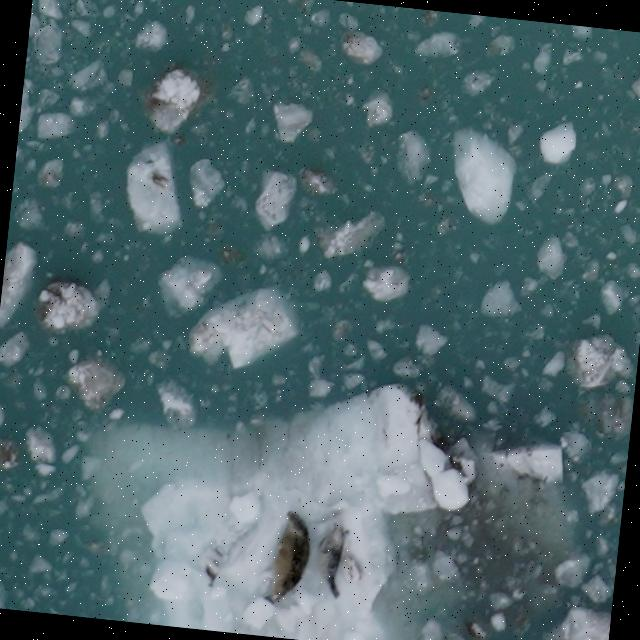seal: (258, 506, 316, 612), (305, 514, 356, 602)
